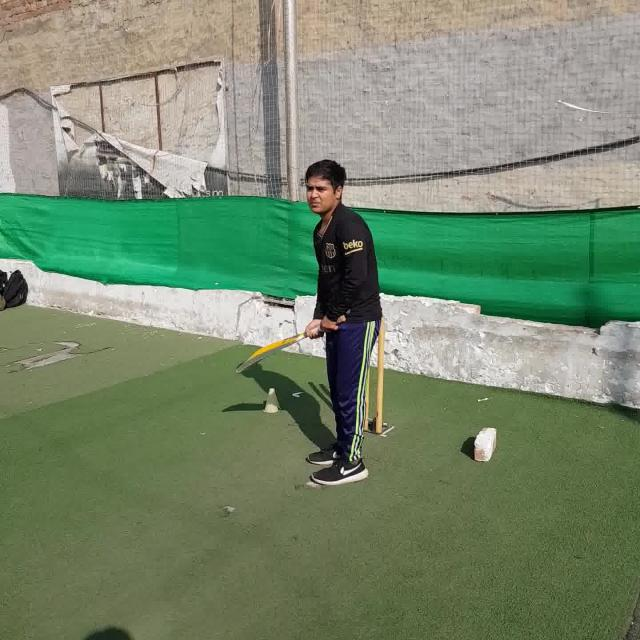bat: (234, 310, 346, 375)
